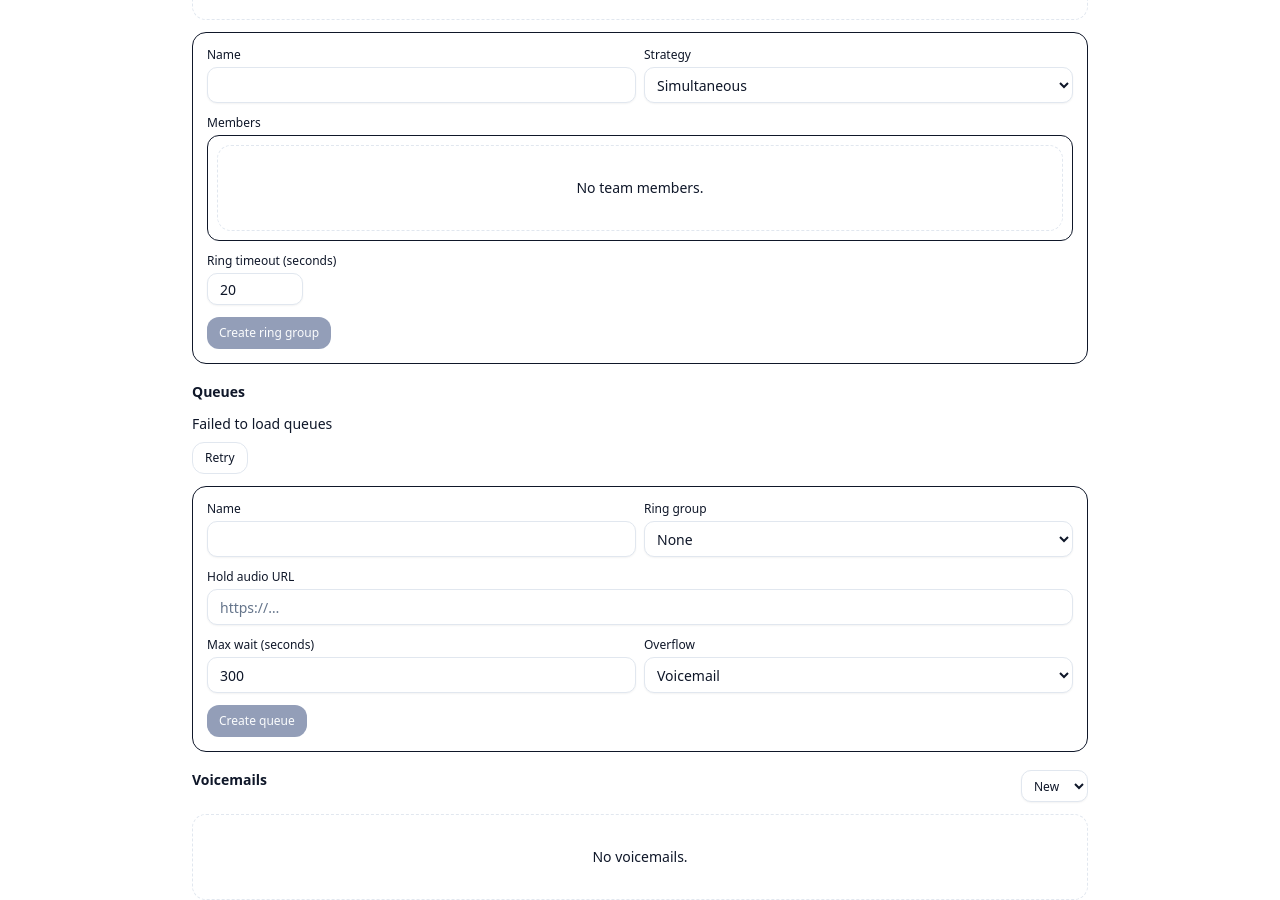
Test: QueuesPage › shows a retry affordance when queues fail to load, and recovers on retry
(page scrolled)
Expected: the message reads "Failed to load queues", x1=192 y1=414 x2=332 y2=433
Click the button "Retry": [220, 458] box x1=192 y1=442 x2=248 y2=474
(page scrolled)
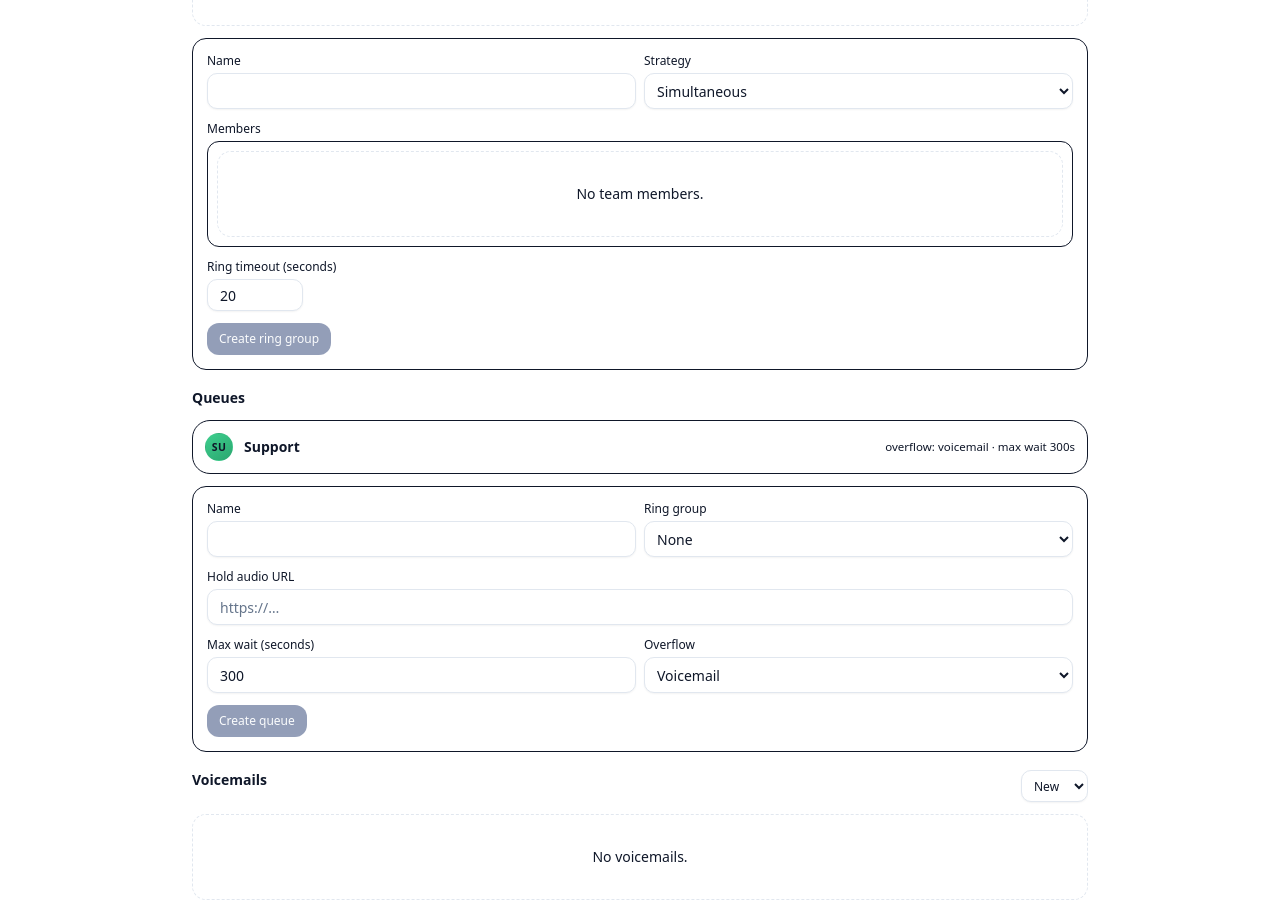
Expected: the text "Support" is shown, x1=244 y1=437 x2=300 y2=457
Expected: the message "Failed to load queues" is gone
